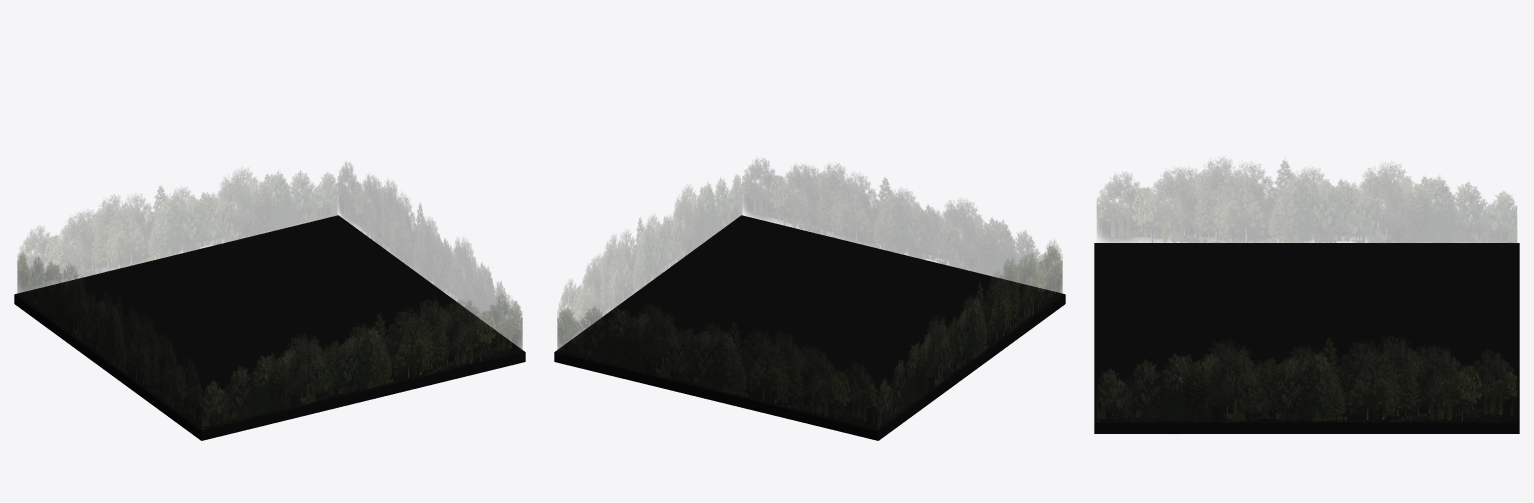
Rendered from ground.glb.
3 views of the same model, side by side, from view 1: azimuth 30°, elevation 25°; view 2: azimuth 150°, elevation 25°; view 3: azimuth 270°, elevation 25° (orthographic). The views are drawn at different scales.
Parts seen in each view (by area): view 1: Plane, tree panorama.002, tree panorama, tree panorama.001, tree panorama.003; view 2: Plane, tree panorama, tree panorama.002, tree panorama.001, tree panorama.003; view 3: Plane, tree panorama.003, tree panorama.001.
Boxes of the visible parts, bbox=[...] form: Plane: bbox=[14, 215, 525, 440]; tree panorama.002: bbox=[202, 294, 522, 429]; tree panorama: bbox=[17, 168, 337, 288]; tree panorama.001: bbox=[17, 253, 201, 425]; tree panorama.003: bbox=[338, 162, 522, 350]; Plane: bbox=[554, 215, 1065, 440]; tree panorama: bbox=[557, 304, 877, 426]; tree panorama.002: bbox=[742, 159, 1062, 293]; tree panorama.001: bbox=[878, 240, 1062, 428]; tree panorama.003: bbox=[557, 174, 741, 344]; Plane: bbox=[1094, 243, 1519, 433]; tree panorama.003: bbox=[1097, 335, 1516, 421]; tree panorama.001: bbox=[1097, 158, 1516, 243].
Size of the model in its own units: 36.22 by 27.92 by 36.22.
2 materials, 1 textured.
